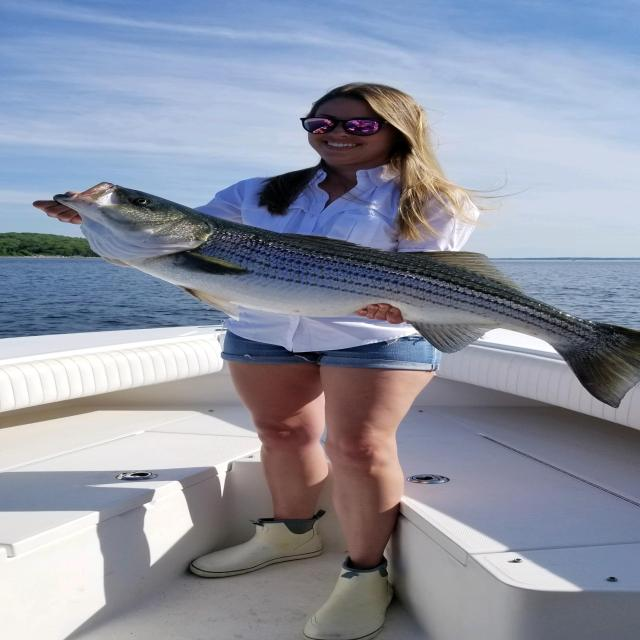Bass - Striped: (55, 182, 640, 407)
